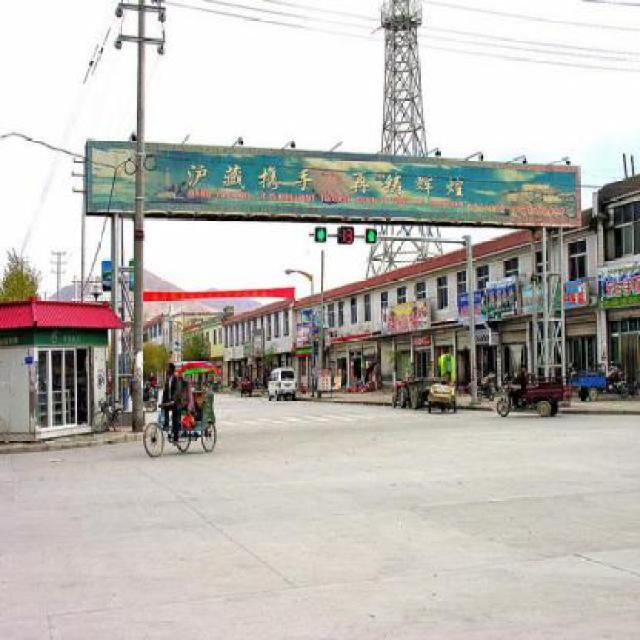Person: (158, 362, 185, 447), (510, 361, 527, 408), (178, 377, 194, 415), (148, 376, 160, 410), (439, 371, 448, 384), (149, 374, 156, 386)
